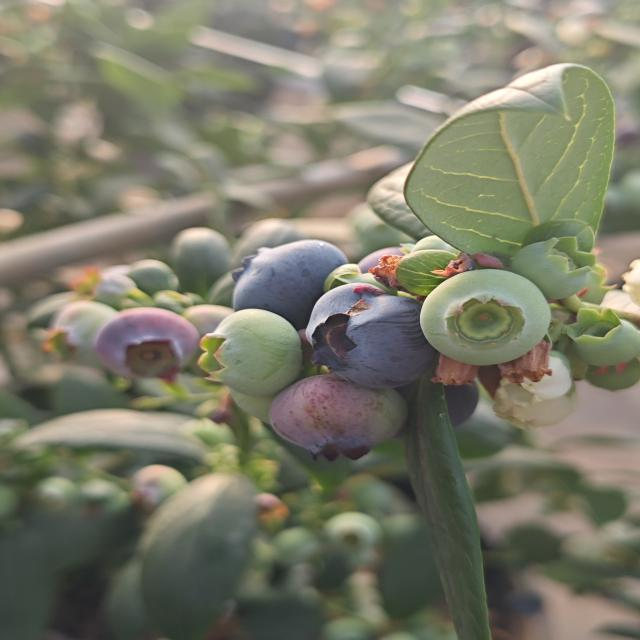ripe: (302, 281, 438, 390), (229, 238, 350, 330), (394, 373, 484, 439)
